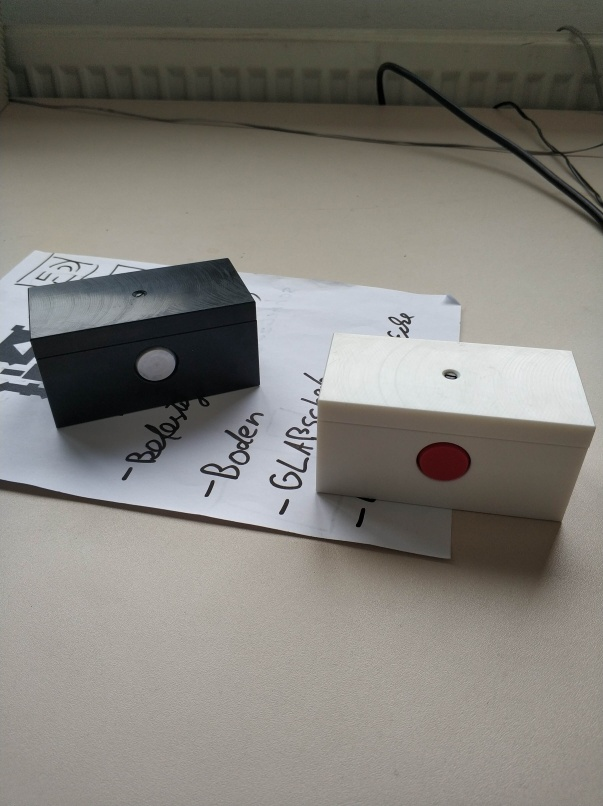black+black+silver: (22, 254, 261, 431)
white+white+red: (314, 328, 597, 526)
